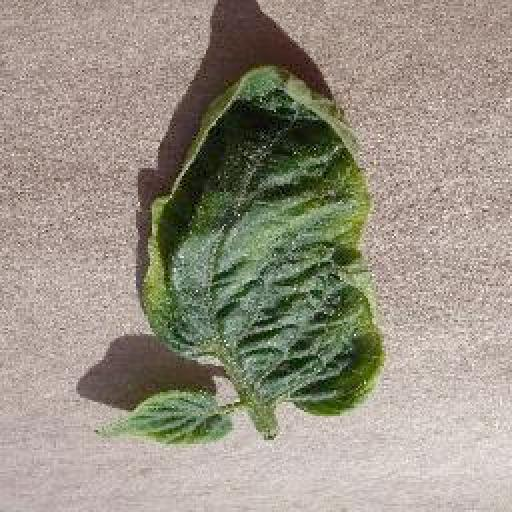disease_tomato: (138, 60, 388, 420), (93, 386, 235, 446)
